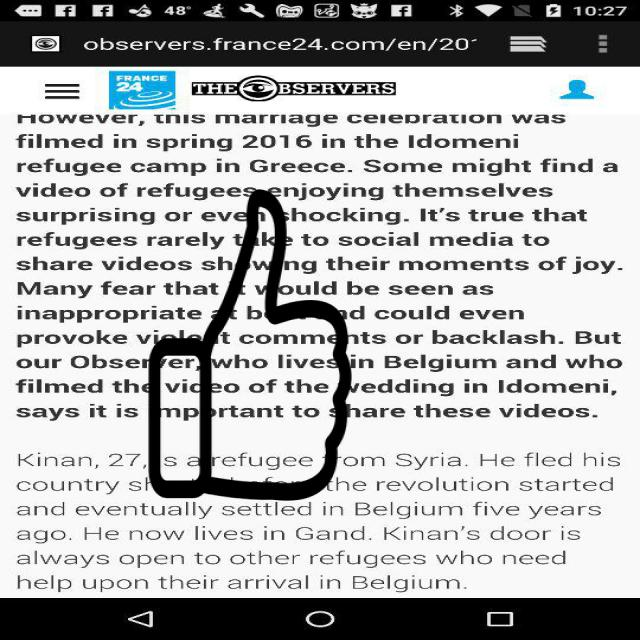privacy zuckering: (146, 189, 354, 501)
